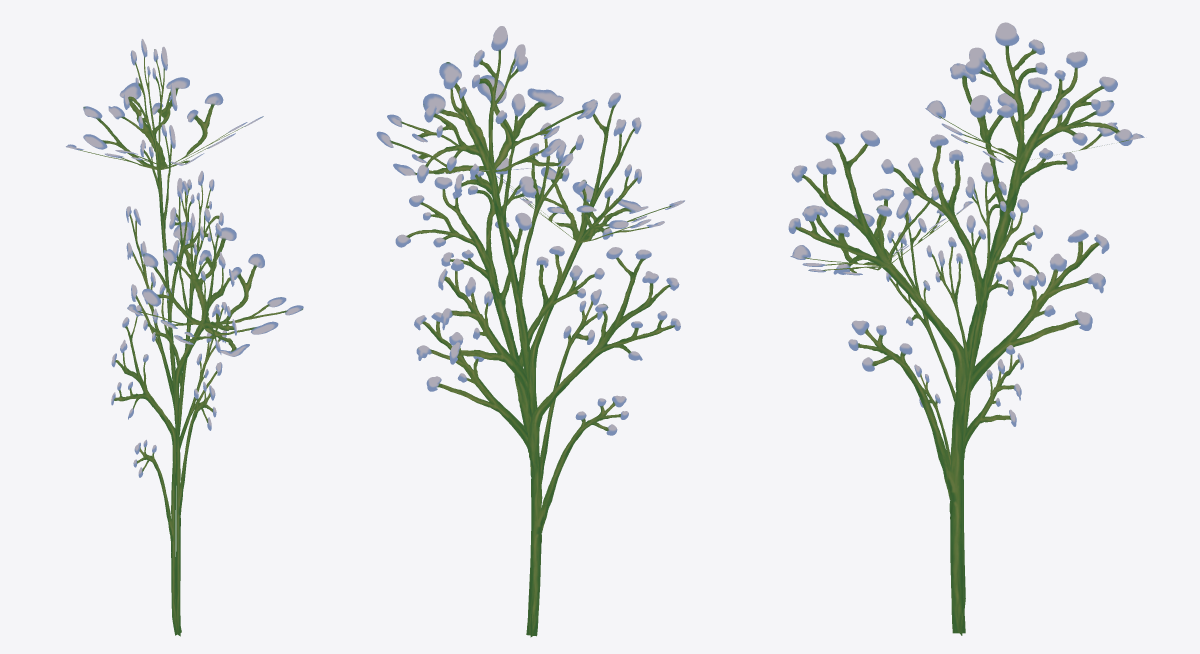
Rendered from MEADOW_SM_Flower_09_01.gltf.
3 renders of one model, left to right at view 1: azimuth 30°, elevation 25°; view 2: azimuth 150°, elevation 25°; view 3: azimuth 270°, elevation 25°, orthographic. The views are drawn at different scales.
Visible parts, largest first — view 1: SM_Flower_09_01_LOD0; view 2: SM_Flower_09_01_LOD0; view 3: SM_Flower_09_01_LOD0.
Part boxes in pixels (left/top/right/bottom): SM_Flower_09_01_LOD0: left=66, top=39, right=303, bottom=636; SM_Flower_09_01_LOD0: left=376, top=26, right=684, bottom=637; SM_Flower_09_01_LOD0: left=788, top=22, right=1144, bottom=635.
Bounding box in the file's own units: 0.452 × 0.9468 × 0.6232.
1 material, 1 textured.
